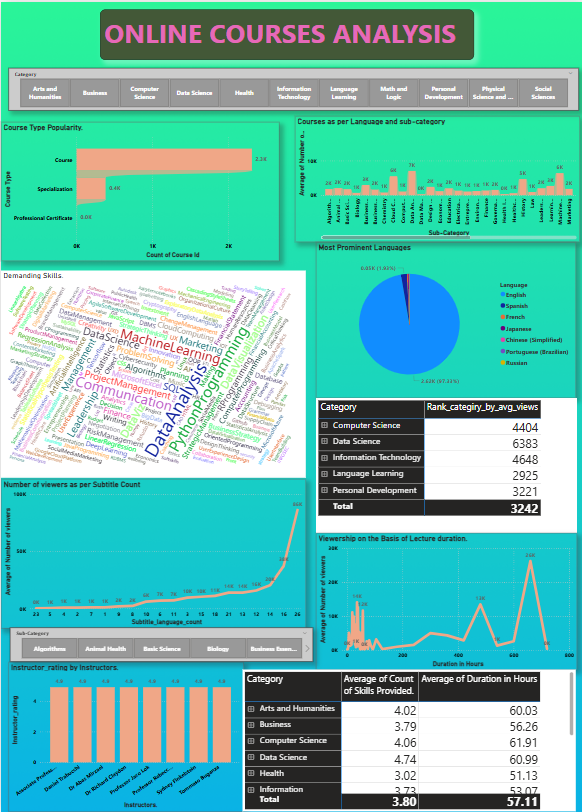

This screenshot's page, from the dashboard's own definition file:
{"tool":"powerbi","page":{"name":"Page 1","canvas":[1300,1800],"ordinal":0},"visuals":[{"type":"textbox","box":[220.7,15.5,831,112.1],"z":0},{"type":"slicer","fields":{"Values":["Online_Courses.Category"]},"box":[15.5,146.6,1267.2,94.8],"z":1000},{"type":"barChart","title":"Course Type Popularity.","fields":{"Category":["Online_Courses.Course Type"],"Y":["Online_Courses.Course Id"]},"box":[0,267.2,619,308.6],"z":2000},{"type":"columnChart","title":"Courses as per Language and sub-category","fields":{"Category":["Online_Courses.Sub-Category","Online_Courses.Language"],"Y":["Online_Courses.Number of viewers"]},"box":[652.1,253.5,632.4,280.3],"z":3000},{"type":"WordCloud1447959067750","title":"Demanding Skills.","fields":{"Category":["Online_Courses.Skills"]},"box":[0,598.3,677.6,460.3],"z":4000},{"type":"pieChart","title":"Most Prominent Languages","fields":{"Category":["Online_Courses.Language"],"Y":["Online_Courses.Course Id"]},"box":[701.4,533.8,577.5,346.5],"z":5000},{"type":"pivotTable","fields":{"Rows":["Online_Courses.Category","Online_Courses.Language"],"Values":["Online_Courses.Rank_categiry_by_avg_views"]},"box":[698.6,880.3,580.3,300],"z":6000},{"type":"lineChart","title":"Number of viewers as per Subtitle Count","fields":{"Category":["Online_Courses.Subtitle_language_count"],"Y":["Online_Courses.Number of viewers"]},"box":[0,1058.5,677.4,332.1],"z":7000},{"type":"clusteredColumnChart","fields":{"Category":["Teachers.Instructors."],"Y":["Teachers.Instructor_rating"]},"box":[15.5,1467.6,522.5,332.4],"z":8000},{"type":"slicer","fields":{"Values":["Teachers.Sub-Category"]},"box":[19.7,1391.5,673.2,76.1],"z":9000},{"type":"lineChart","title":"Viewership on the Basis of Lecture duration.","fields":{"Category":["Online_Courses.Duration in Hours"],"Y":["Online_Courses.Number of viewers"]},"box":[698.6,1180.3,580.3,304.2],"z":10000},{"type":"pivotTable","fields":{"Rows":["Online_Courses.Category","Online_Courses.Sub-Category"],"Values":["Online_Courses.Count of Skills Provided.","Online_Courses.Duration in Hours"]},"box":[538,1484.5,740.8,315.5],"z":11000}]}

Visuals, with their boxes in screenshot pixels (x1, y1, x2, y2), scaled from the page's 1300x1800 canvas onto the 582x812 screenshot:
textbox: left=99, top=7, right=471, bottom=58
slicer - Online_Courses.Category: left=7, top=66, right=574, bottom=109
"Course Type Popularity." barChart: left=0, top=121, right=277, bottom=260
"Courses as per Language and sub-category" columnChart: left=292, top=114, right=575, bottom=241
"Demanding Skills." WordCloud1447959067750: left=0, top=270, right=303, bottom=478
"Most Prominent Languages" pieChart: left=314, top=241, right=573, bottom=397
pivotTable - Online_Courses.Category x Online_Courses.Language: left=313, top=397, right=573, bottom=532
"Number of viewers as per Subtitle Count" lineChart: left=0, top=478, right=303, bottom=627
clusteredColumnChart - Teachers.Instructors. x Teachers.Instructor_rating: left=7, top=662, right=241, bottom=811
slicer - Teachers.Sub-Category: left=9, top=628, right=310, bottom=662
"Viewership on the Basis of Lecture duration." lineChart: left=313, top=532, right=573, bottom=670
pivotTable - Online_Courses.Category x Online_Courses.Sub-Category: left=241, top=670, right=573, bottom=811
